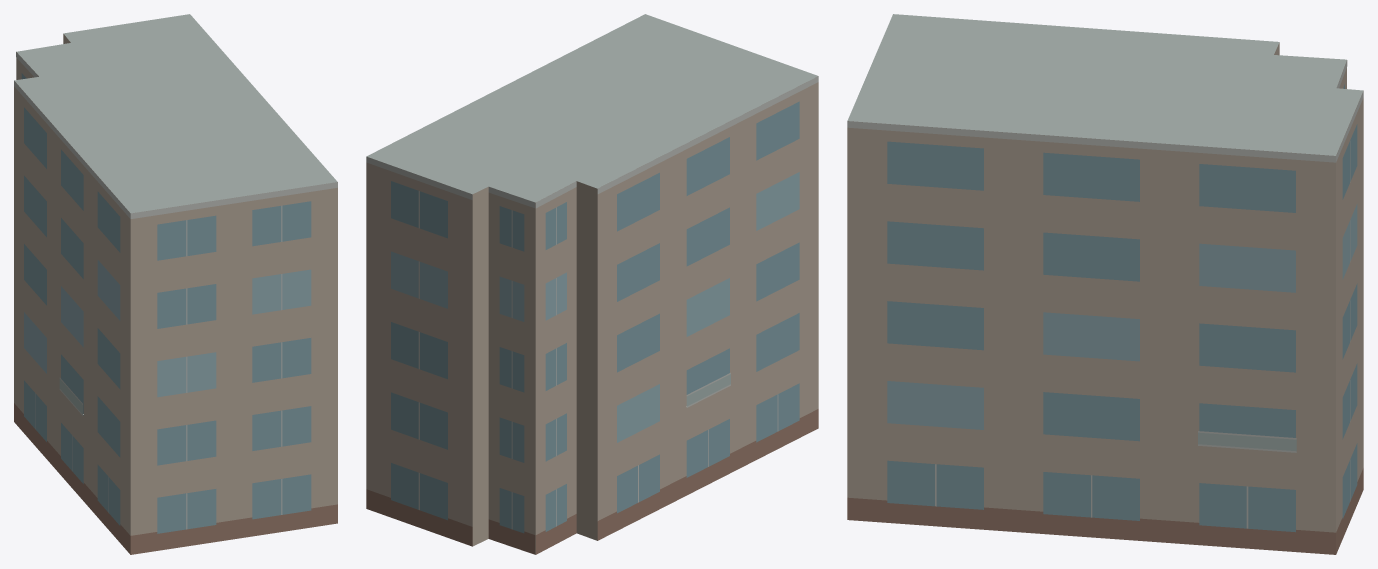
File: survey-upis-32597533.glb
3 views of the same model, side by side, from view 1: azimuth 30°, elevation 25°; view 2: azimuth 150°, elevation 25°; view 3: azimuth 270°, elevation 25° (orthographic). The views are drawn at different scales.
Visible parts, largest first — view 1: survey-upis-32597533.tmp; view 2: survey-upis-32597533.tmp; view 3: survey-upis-32597533.tmp.
Boxes of the visible parts, left/top/right/bottom form: survey-upis-32597533.tmp: left=14, top=14, right=337, bottom=554; survey-upis-32597533.tmp: left=366, top=14, right=818, bottom=554; survey-upis-32597533.tmp: left=847, top=14, right=1363, bottom=554.
Size of the model in its own units: 11.07 by 14.5 by 17.02.
